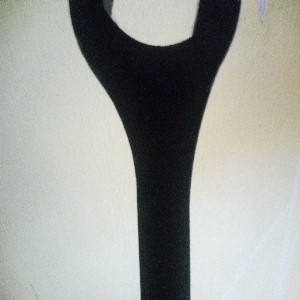spanner: (67, 1, 243, 300)
